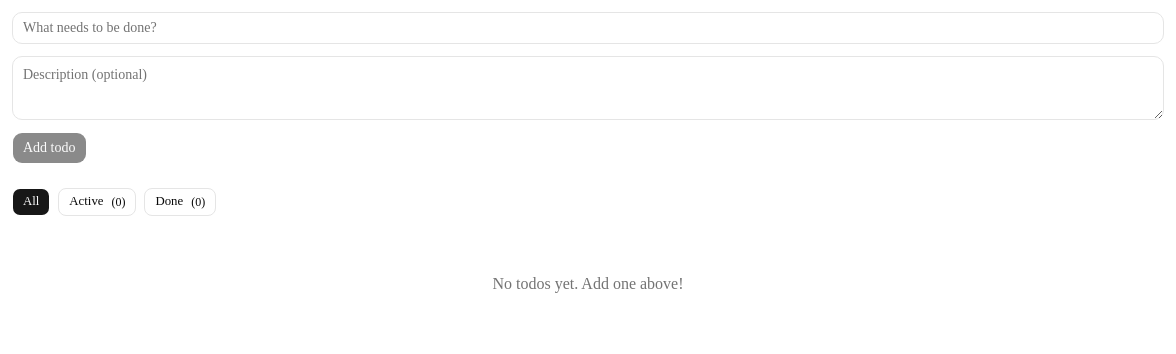
Test case: TodoList › adds a new todo after creation
The image size is (1176, 354).
Check: the text "No todos yet. Add one above!" is shown, box [492,275,684,292]
Type "New task" into the field with placeholder "What needs to be done?" at (588, 28), box [12,12,1164,44]
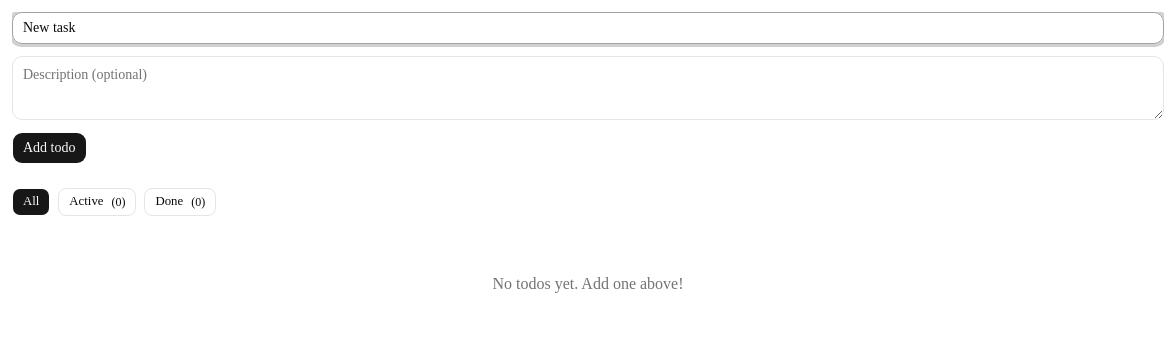
Click the button "Add todo" at (49, 148), box [12,132,86,164]
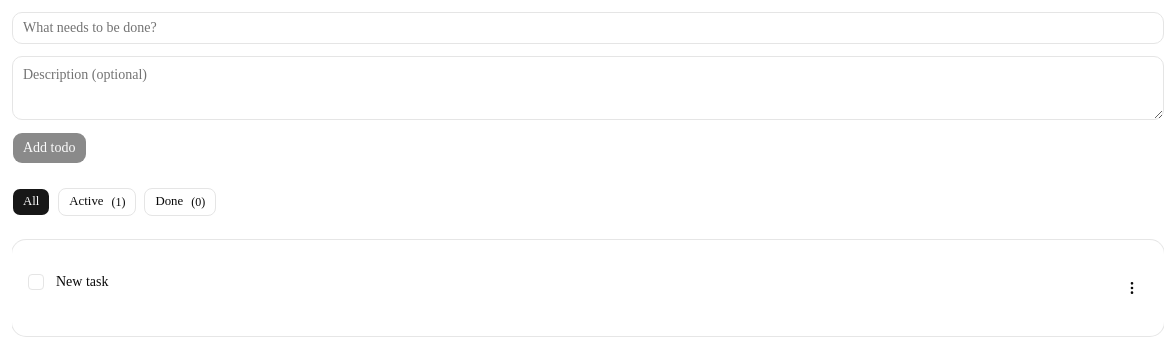
Check: the text "New task" is shown, box [56,274,108,289]
